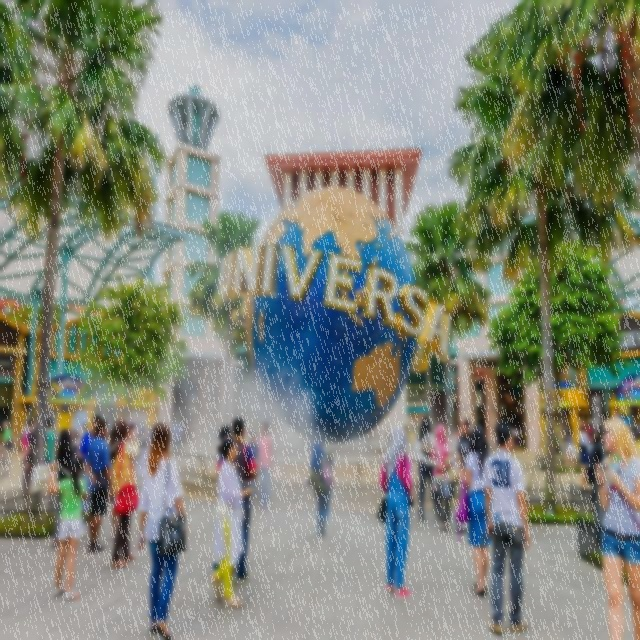pessoa: (136, 420, 190, 640), (481, 417, 532, 635), (594, 414, 640, 640), (209, 434, 253, 608), (216, 416, 258, 586), (453, 423, 492, 599), (45, 453, 90, 602), (380, 426, 414, 600), (108, 419, 140, 569), (84, 418, 114, 554), (51, 427, 82, 548), (584, 422, 612, 550), (109, 419, 137, 544), (78, 414, 102, 538), (414, 416, 440, 522), (430, 424, 455, 532), (306, 442, 332, 538), (455, 415, 472, 535), (254, 418, 274, 511), (42, 416, 59, 494), (614, 405, 640, 453), (22, 418, 36, 500), (560, 422, 580, 475), (26, 412, 48, 460), (578, 422, 592, 494), (247, 431, 260, 508), (552, 415, 574, 458), (216, 423, 236, 467), (66, 422, 89, 457), (133, 416, 156, 448), (0, 420, 12, 478), (179, 420, 202, 446), (138, 438, 150, 477), (616, 378, 634, 403), (364, 427, 380, 447), (48, 379, 62, 400), (382, 424, 392, 452), (170, 420, 182, 440), (20, 419, 31, 439), (588, 421, 596, 448), (406, 427, 418, 445), (512, 426, 520, 452), (403, 424, 410, 452), (586, 422, 594, 445), (216, 450, 223, 466)
